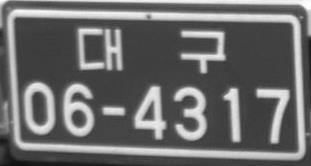0: (23, 80, 56, 135)
1: (216, 86, 250, 143)
3: (171, 85, 208, 140)
4: (132, 86, 167, 140)
6: (63, 82, 95, 136)
7: (255, 87, 290, 144)
대구_D: (77, 27, 226, 75)
